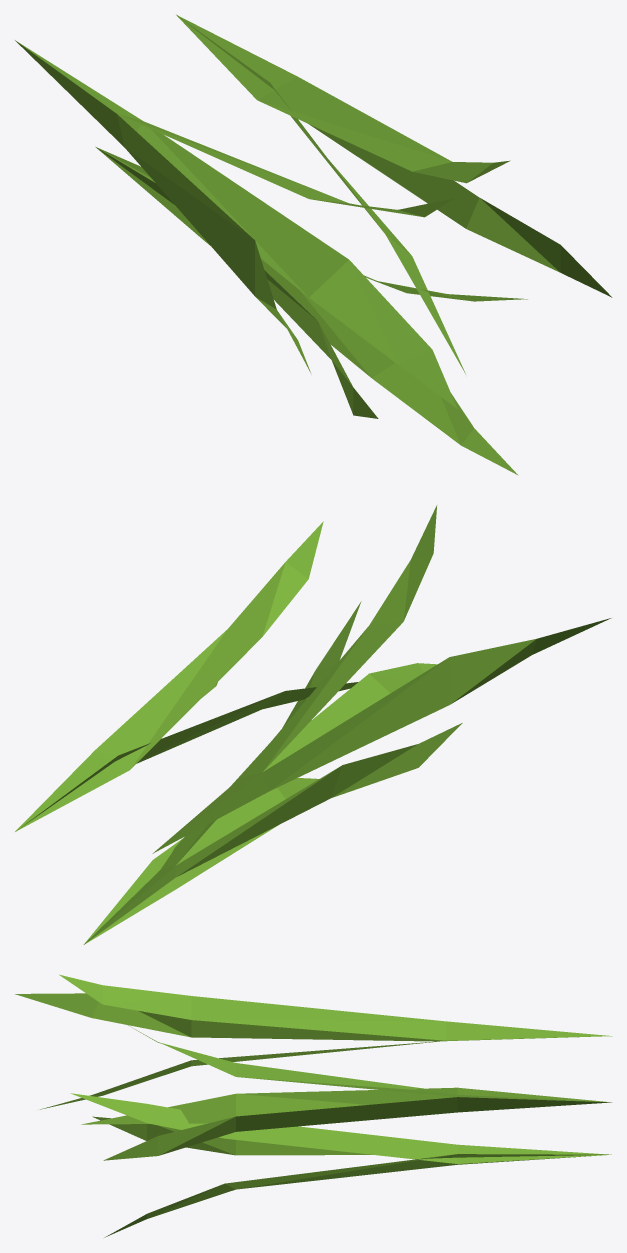
The model's file is stage_4.obj.
The picture shows the model from 3 angles, top to bottom: view 1: azimuth 30°, elevation 25°; view 2: azimuth 150°, elevation 25°; view 3: azimuth 270°, elevation 25°; orthographic projection. The views are drawn at different scales.
Parts seen in each view (by area): view 1: garlicplant; view 2: garlicplant; view 3: garlicplant.
Part boxes in pixels (x1,y1,x2,y2): garlicplant: (15,14,612,475); garlicplant: (15,505,611,944); garlicplant: (15,974,612,1237).
Bounding box in the file's own units: 0.27 × 0.23 × 0.54.
